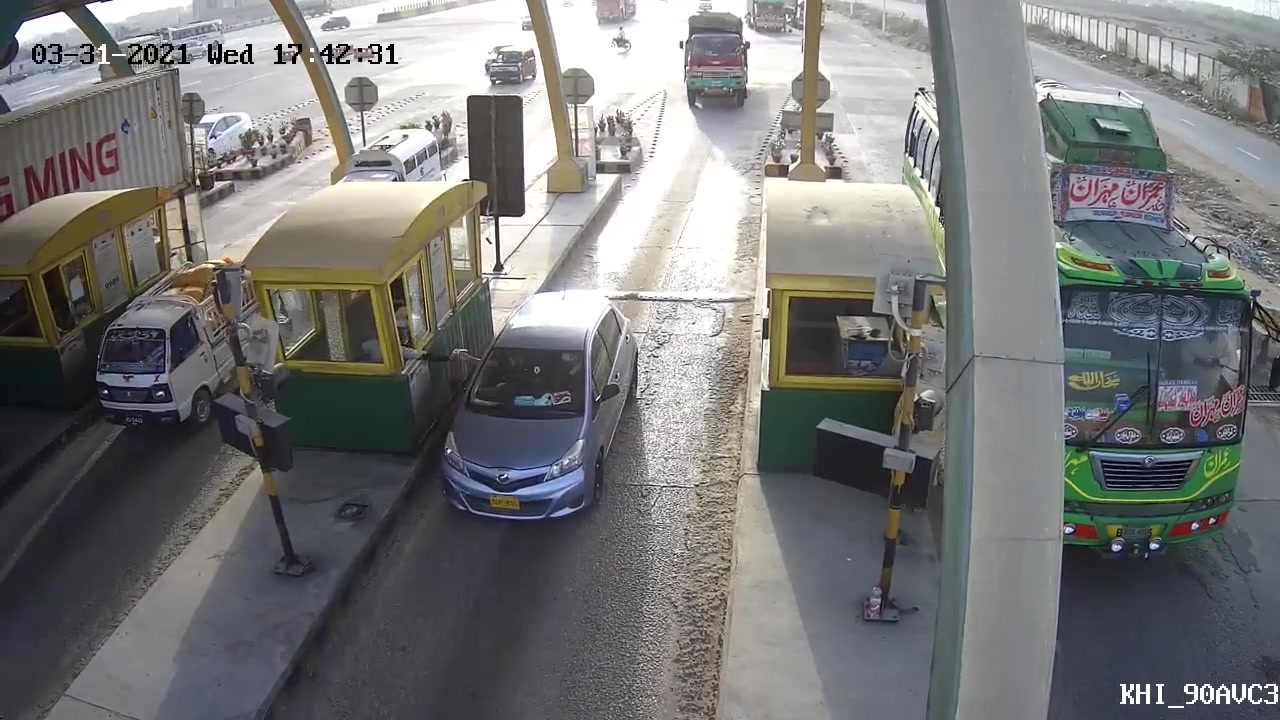F1: (434, 283, 642, 531)
